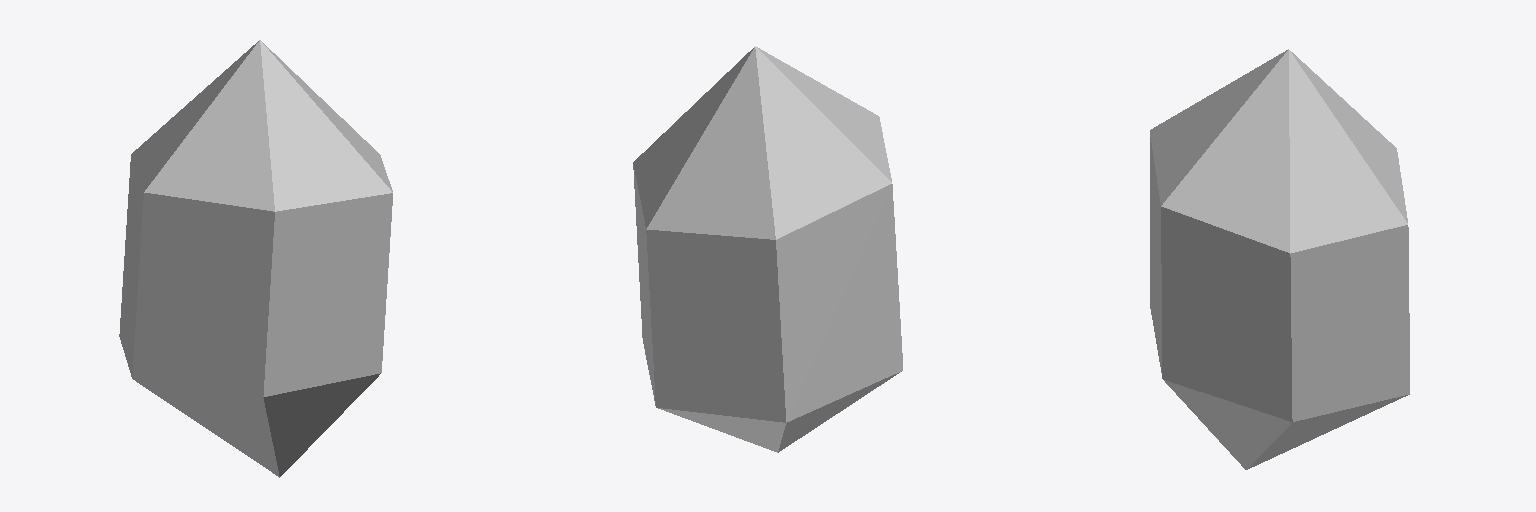
The model's file is GreenOre.obj.
3 renders of one model, left to right at view 1: azimuth 30°, elevation 25°; view 2: azimuth 150°, elevation 25°; view 3: azimuth 270°, elevation 25°, orthographic.
Parts seen in each view (by area): view 1: group[number redacted]; view 2: group[number redacted]; view 3: group[number redacted].
Boxes of the visible parts, x1,y1,x2,y2 form: group[number redacted]: [119, 40, 392, 477]; group[number redacted]: [633, 46, 902, 452]; group[number redacted]: [1150, 49, 1409, 469].
Size of the model in its own units: 0.1035 by 0.161 by 0.0902.